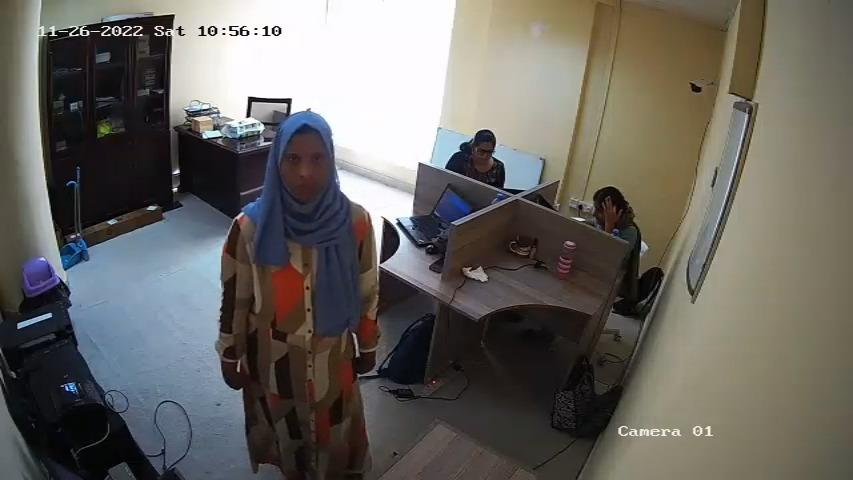no_apron: (248, 220, 355, 439)
